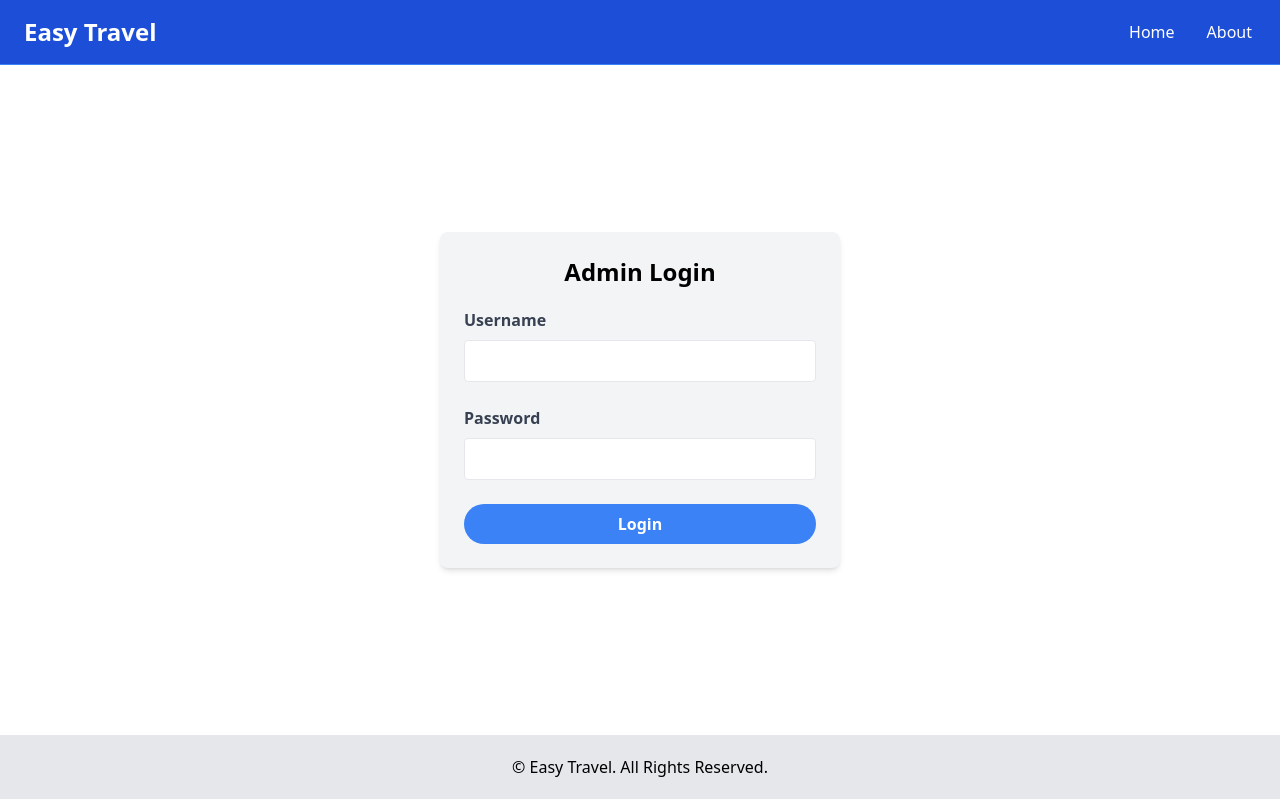
Home Page › should not login on invalid credentials
Step 1. Type "username" into the field named "username" → (640, 361), box [464,340,816,382]
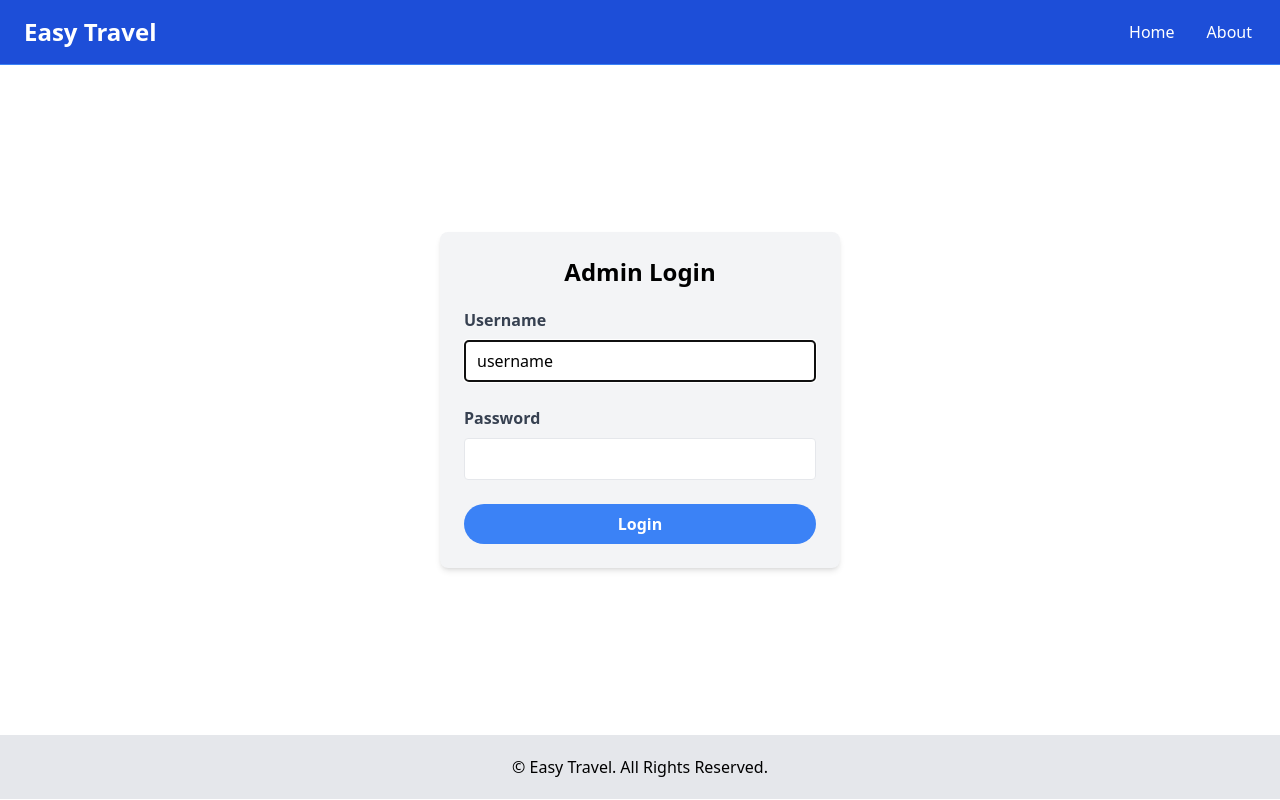
Step 2. Type "password" into the password field named "password" → (640, 459), box [464,438,816,480]
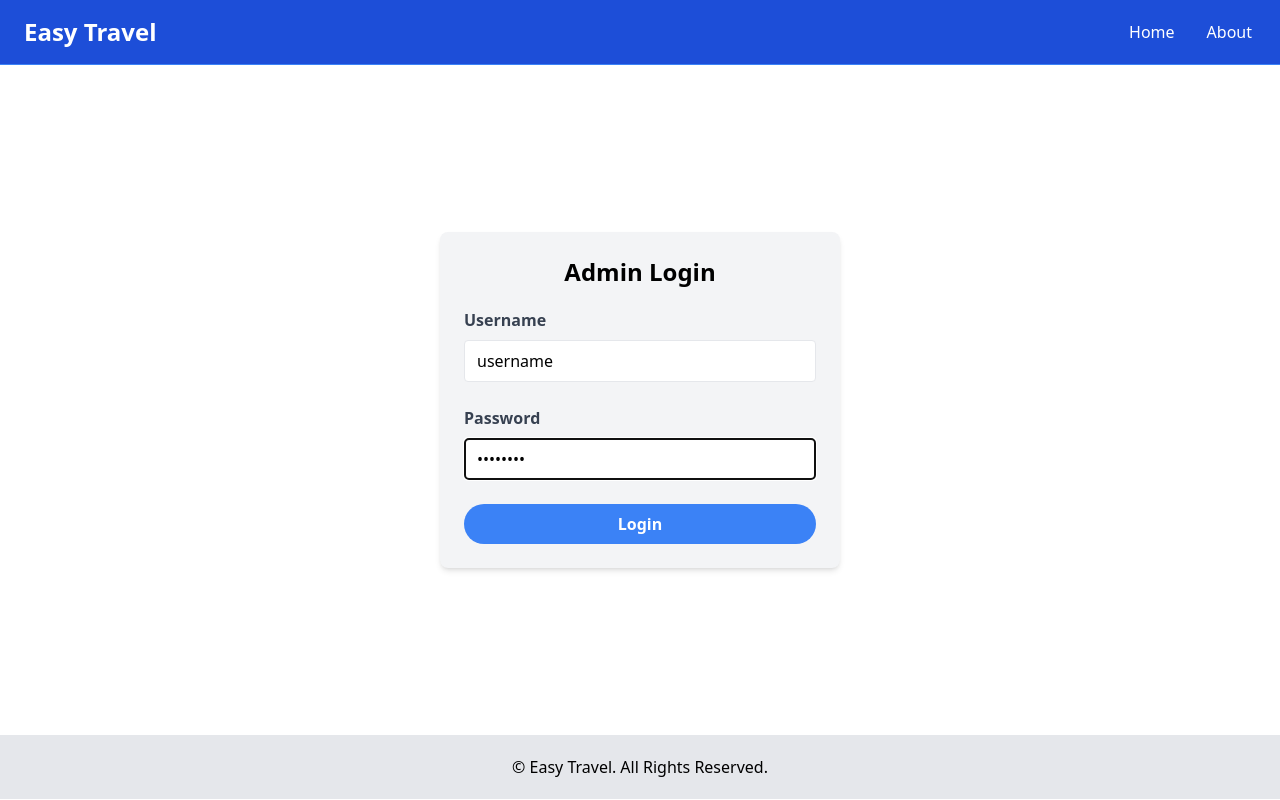
Step 3. Click the button "Login" → click(640, 524), box [464,504,816,544]
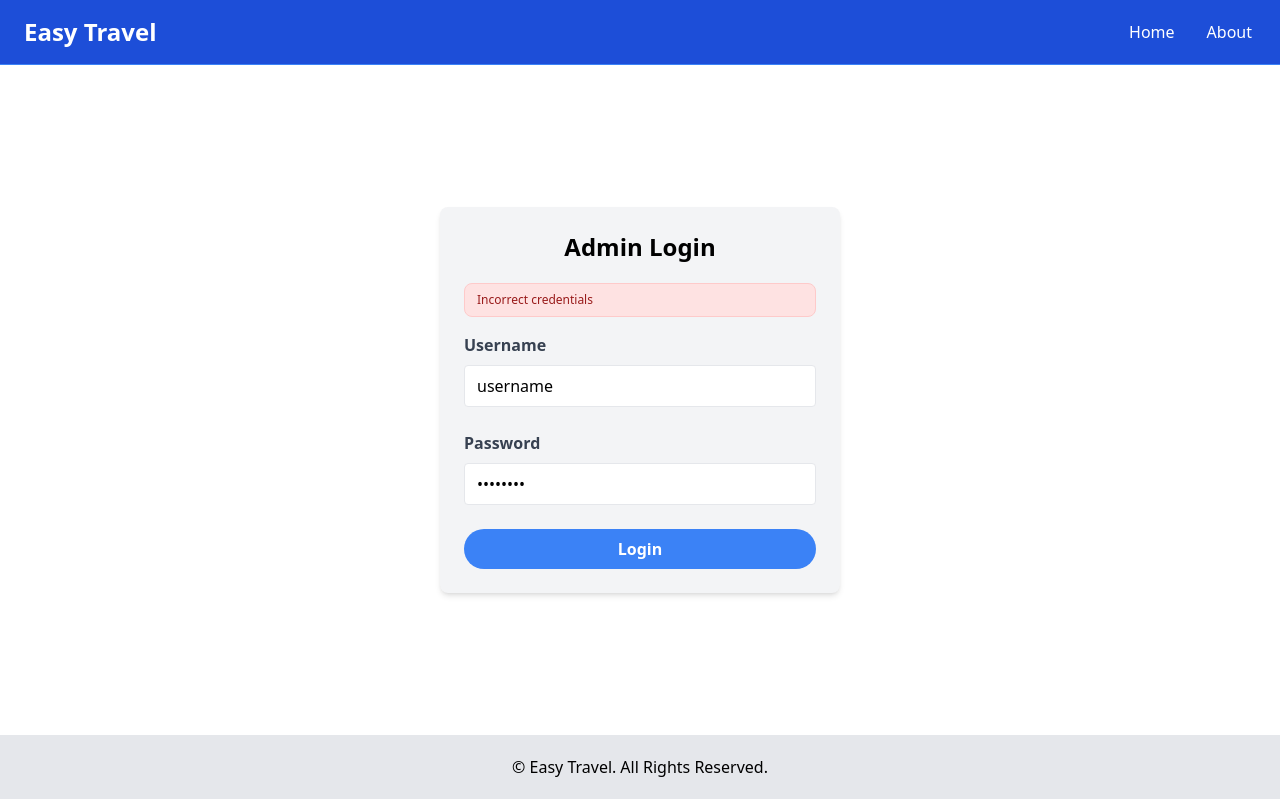
Expected: the button "Login" is shown, [464,529,816,569]
Now the text "Incorrect credentials" is shown, box [464,283,816,317]
